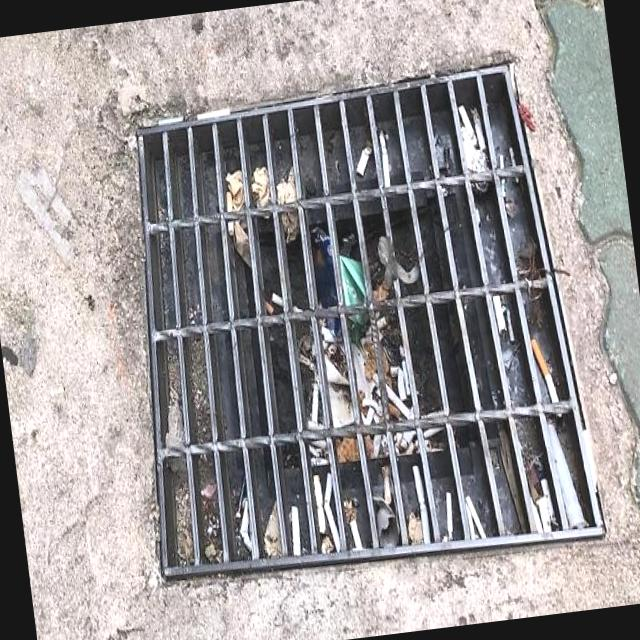drain_area: (140, 127, 311, 543), (354, 183, 509, 468), (250, 212, 312, 313)
drain_full: (136, 67, 597, 576)
